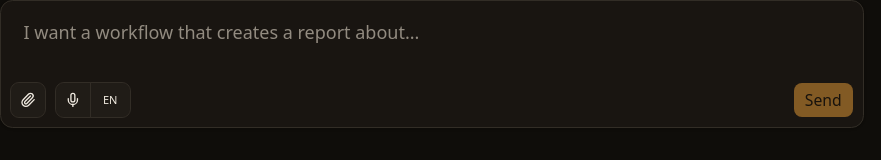
it: voice input › cancelling throws the recording away and turns the microphone off
Click the button named "Record a voice message": (73, 100) [55,82,91,118]
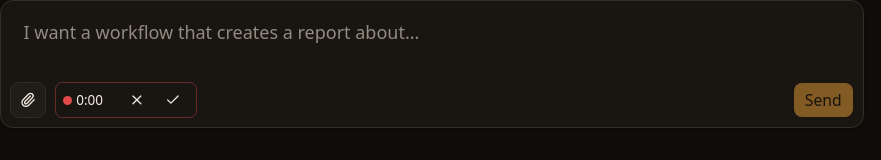
Click the button named "Cancel recording": (137, 100) [121,84,153,116]
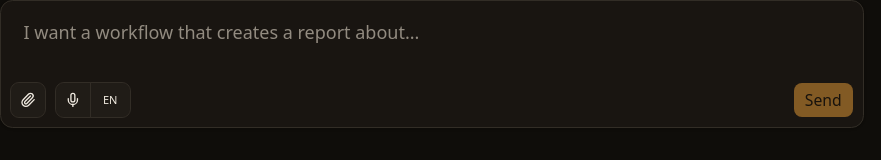
expect the button named "Record a voice message" is shown: met, box [55,82,91,118]
